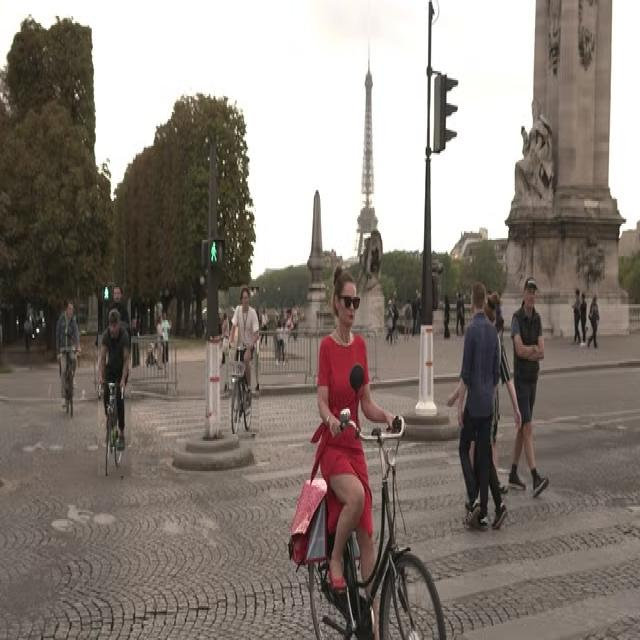bicycle: (289, 269, 445, 640), (98, 286, 131, 476), (229, 287, 259, 434)
